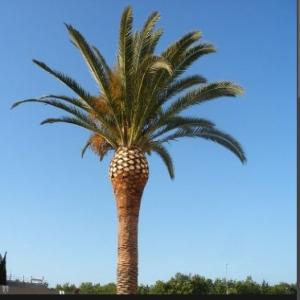palm tree: (10, 4, 247, 294)
